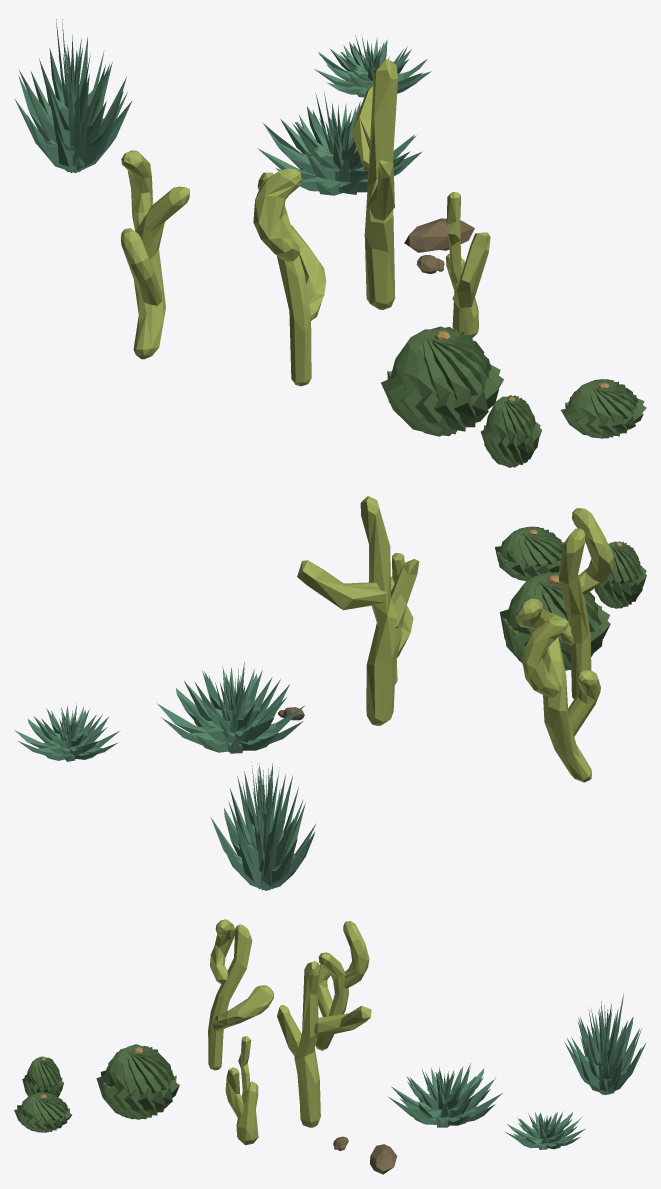
The model's file is pflanzen_19-04_luis.fbx.
3 renders of one model, top to bottom at view 1: azimuth 30°, elevation 25°; view 2: azimuth 150°, elevation 25°; view 3: azimuth 270°, elevation 25°, orthographic. The views are drawn at different scales.
Parts seen in each view (by area): view 1: runderkaktusfinal, stachlebuschfinal_1, kaktus, kaktus4, kaktus3, stachlebuschfinal, runderkaktusfinal_2, kaktusklein, runderkaktusfinal_1, stachlebuschfinal_2, großerstein_1; view 2: kaktus, stachlebuschfinal_1, stachlebuschfinal, kaktus3, kaktus4, runderkaktusfinal, stachlebuschfinal_2, runderkaktusfinal_2, runderkaktusfinal_1, kaktusklein; view 3: kaktus, runderkaktusfinal, kaktus4, stachlebuschfinal_1, stachlebuschfinal, kaktus3, kaktusklein, stachlebuschfinal_2, runderkaktusfinal_2, runderkaktusfinal_1, großerstein_1.
Boxes of the visible parts, x1=… form: runderkaktusfinal: x1=381, y1=326, x2=503, y2=436; stachlebuschfinal_1: x1=14, y1=19, x2=131, y2=173; kaktus: x1=351, y1=59, x2=397, y2=309; kaktus4: x1=253, y1=168, x2=326, y2=386; kaktus3: x1=120, y1=150, x2=189, y2=359; stachlebuschfinal: x1=257, y1=91, x2=422, y2=195; runderkaktusfinal_2: x1=561, y1=379, x2=646, y2=438; kaktusklein: x1=446, y1=192, x2=490, y2=337; runderkaktusfinal_1: x1=481, y1=395, x2=541, y2=467; stachlebuschfinal_2: x1=314, y1=35, x2=431, y2=97; großerstein_1: x1=404, y1=218, x2=474, y2=252; kaktus: x1=297, y1=496, x2=419, y2=725; stachlebuschfinal_1: x1=210, y1=762, x2=316, y2=890; stachlebuschfinal: x1=157, y1=661, x2=305, y2=753; kaktus3: x1=522, y1=618, x2=600, y2=782; kaktus4: x1=515, y1=508, x2=614, y2=698; runderkaktusfinal: x1=500, y1=571, x2=610, y2=670; stachlebuschfinal_2: x1=14, y1=703, x2=120, y2=761; runderkaktusfinal_2: x1=495, y1=526, x2=563, y2=580; runderkaktusfinal_1: x1=594, y1=541, x2=646, y2=608; kaktusklein: x1=390, y1=553, x2=413, y2=684; kaktus: x1=277, y1=961, x2=371, y2=1127; runderkaktusfinal: x1=96, y1=1044, x2=179, y2=1119; kaktus4: x1=208, y1=919, x2=273, y2=1070; stachlebuschfinal_1: x1=564, y1=994, x2=646, y2=1094; stachlebuschfinal: x1=388, y1=1063, x2=502, y2=1127; kaktus3: x1=315, y1=921, x2=369, y2=1050; kaktusklein: x1=225, y1=1036, x2=258, y2=1145; stachlebuschfinal_2: x1=504, y1=1111, x2=585, y2=1149; runderkaktusfinal_2: x1=14, y1=1092, x2=72, y2=1132; runderkaktusfinal_1: x1=22, y1=1056, x2=63, y2=1097; großerstein_1: x1=370, y1=1144, x2=397, y2=1174.
Bounding box in the file's own units: 507 × 271 × 881.
